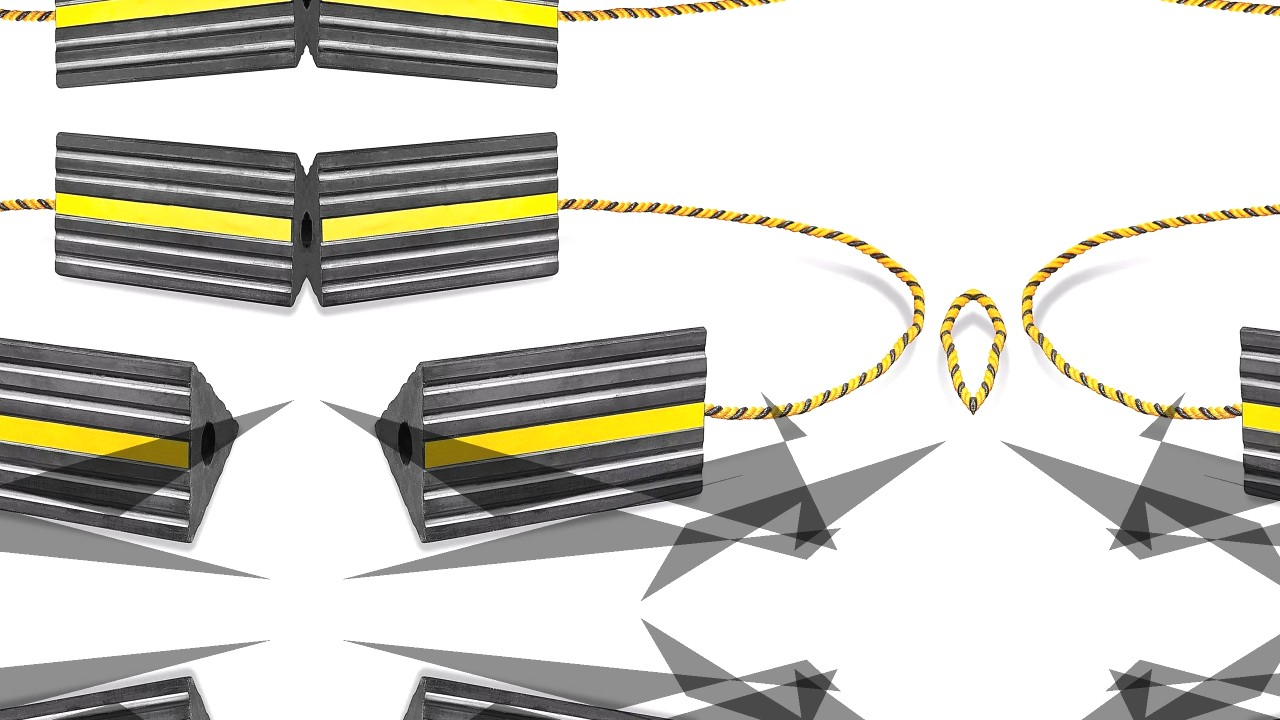chock: (347, 258, 739, 605), (0, 258, 266, 605), (306, 110, 591, 360), (22, 110, 306, 360), (347, 615, 739, 720), (306, 0, 591, 110), (22, 0, 306, 110), (0, 615, 266, 720), (1208, 258, 1280, 605)
